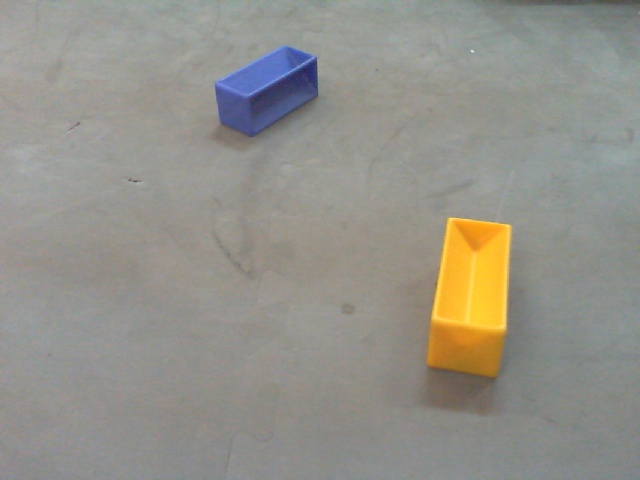BlueSample: (210, 43, 324, 140)
YellowSample: (421, 213, 515, 380)
